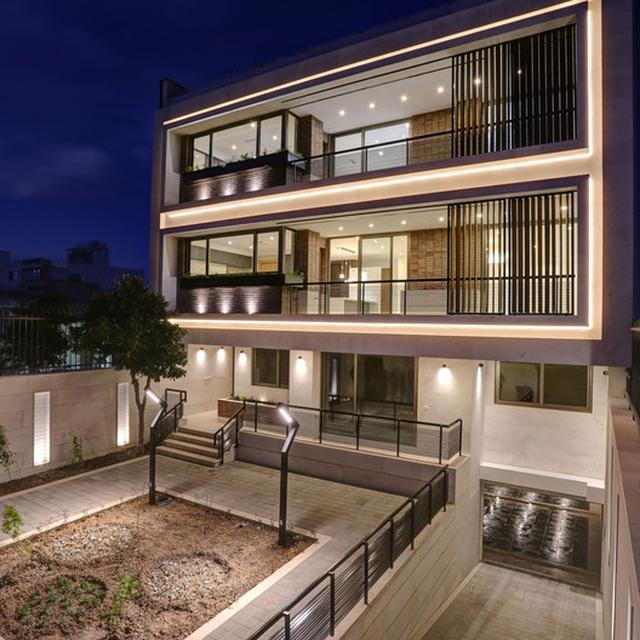building: (148, 0, 637, 483)
